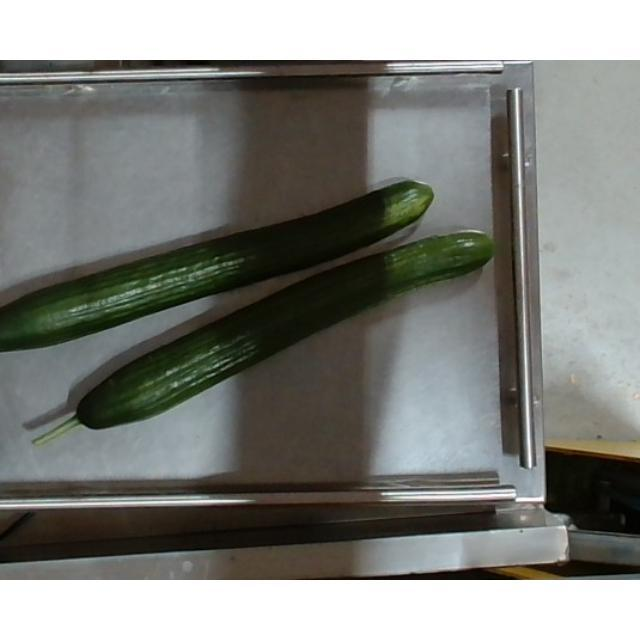cucumber: (31, 229, 493, 445), (0, 181, 434, 353)
